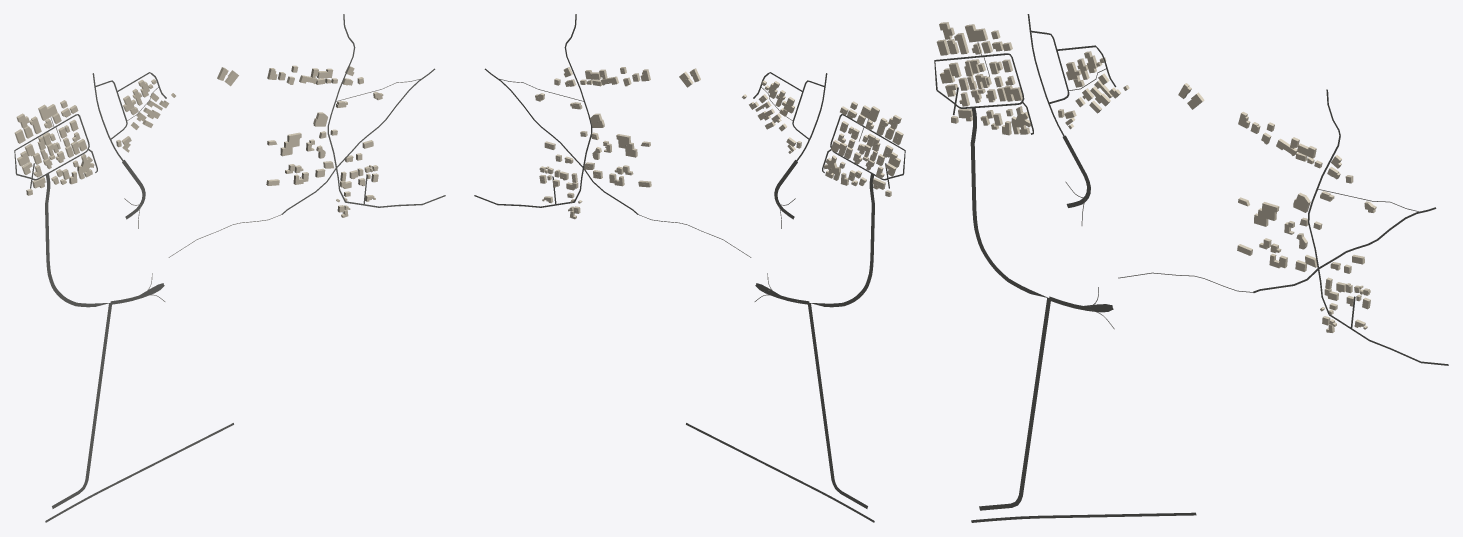
Rendered from historic-palestine-10_24_3517_3184.glb.
3 views of the same model, side by side, from view 1: azimuth 30°, elevation 25°; view 2: azimuth 150°, elevation 25°; view 3: azimuth 330°, elevation 25° (orthographic). The views are drawn at different scales.
Parts seen in each view (by area): view 1: Road 4362; view 2: Road 4362; view 3: Road 4362.
Boxes of the visible parts, x1=… form: Road 4362: x1=45, y1=173, x2=112, y2=508; Road 4362: x1=808, y1=173, x2=874, y2=508; Road 4362: x1=970, y1=107, x2=1050, y2=510.
Bounding box in the file's own units: 1023 × 994 × 8.7.
